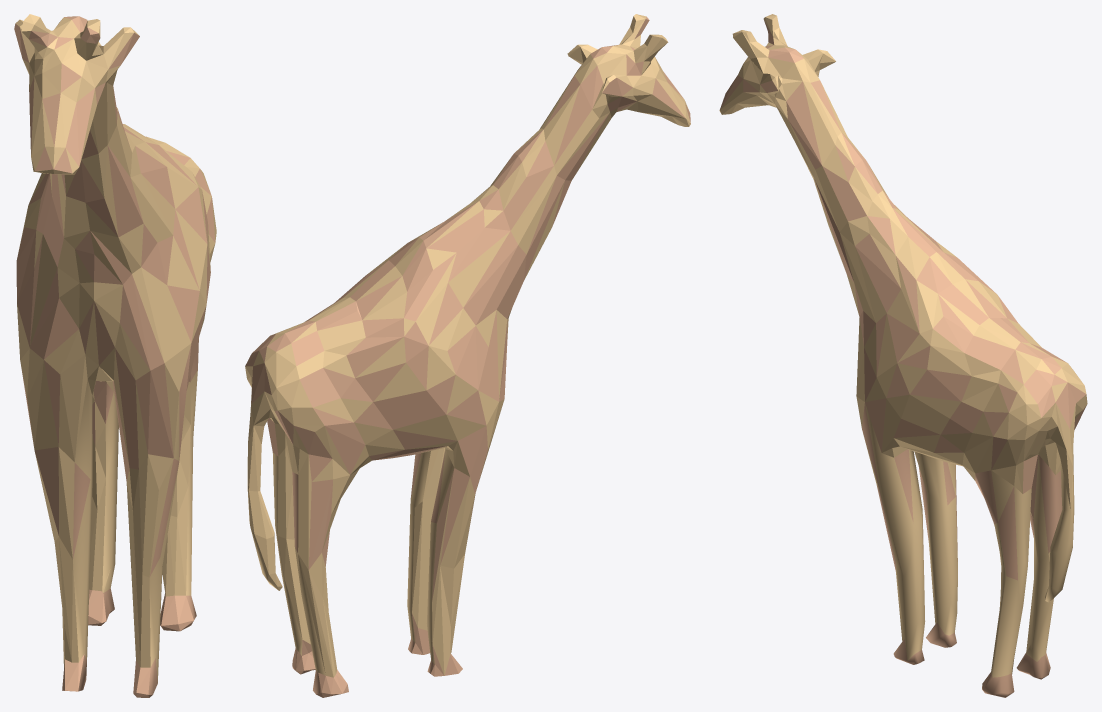
Rendered from giraffe.glb.
3 views of the same model, side by side, from view 1: azimuth 30°, elevation 25°; view 2: azimuth 150°, elevation 25°; view 3: azimuth 270°, elevation 25° (orthographic). The views are drawn at different scales.
Parts seen in each view (by area): view 1: Plane.002_0; view 2: Plane.002_0; view 3: Plane.002_0.
Part boxes in pixels (x1,y1,x2,y2): Plane.002_0: (14,14,216,697); Plane.002_0: (245,14,690,697); Plane.002_0: (719,14,1087,697).
Size of the model in its own units: 18.61 by 37.49 by 21.87.
Materials: 1 (1 with a texture image).
